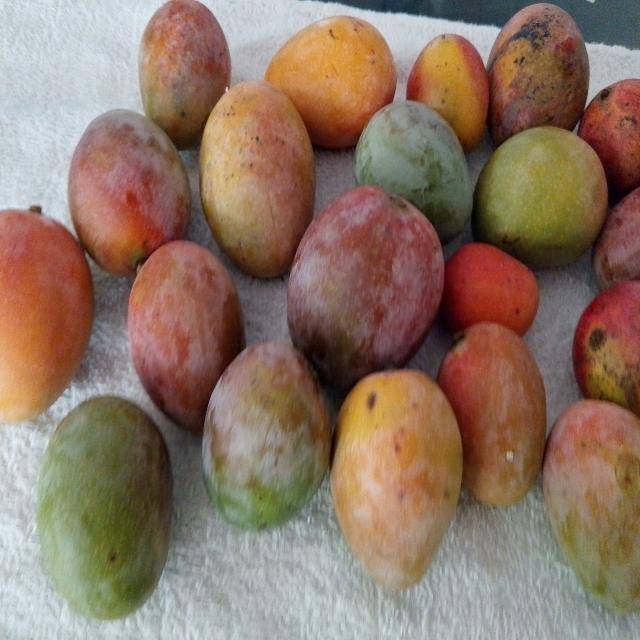mango: (287, 186, 443, 390), (38, 397, 172, 619), (331, 370, 462, 589), (203, 341, 331, 529), (200, 81, 315, 277), (128, 241, 244, 434), (68, 109, 191, 275), (543, 400, 639, 612), (0, 208, 94, 422), (437, 322, 546, 506), (472, 127, 607, 268), (265, 16, 396, 148), (355, 101, 472, 244), (487, 3, 589, 146), (139, 0, 230, 149), (406, 34, 489, 153), (445, 236, 541, 333), (573, 281, 639, 415), (578, 79, 639, 201), (591, 186, 640, 291)
